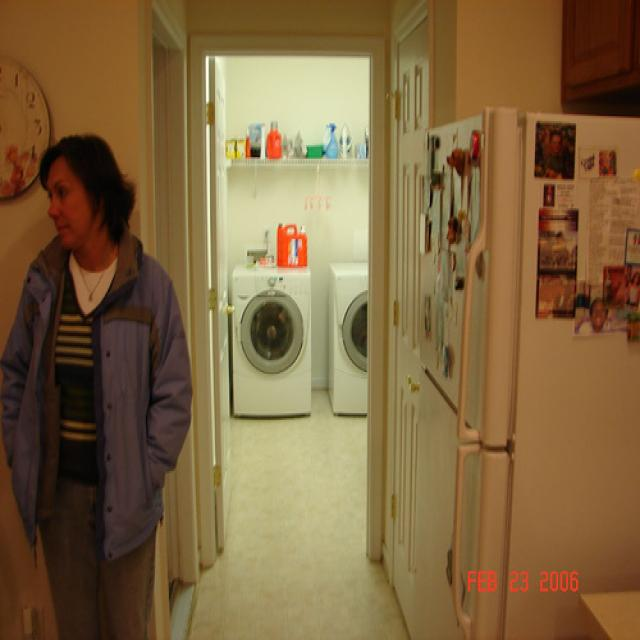person: (1, 133, 193, 640)
